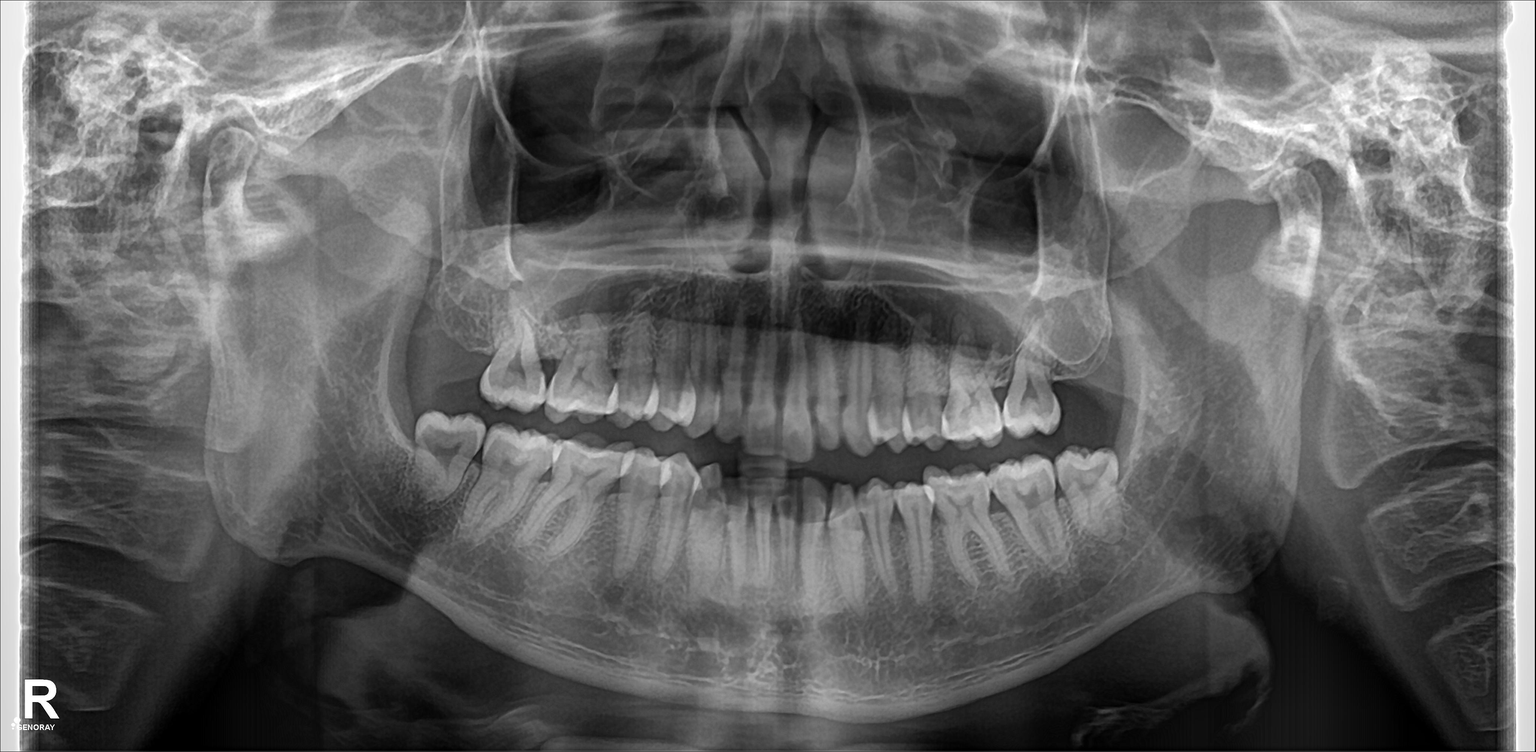Dental Caries: (689, 475, 734, 509)
Missing Tooth: (1058, 328, 1110, 411), (441, 300, 484, 392), (413, 302, 441, 392)
